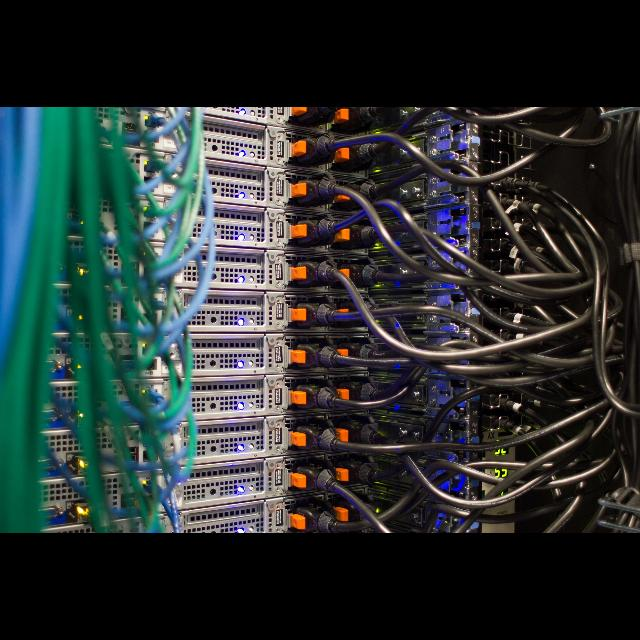Server: (129, 107, 287, 533)
